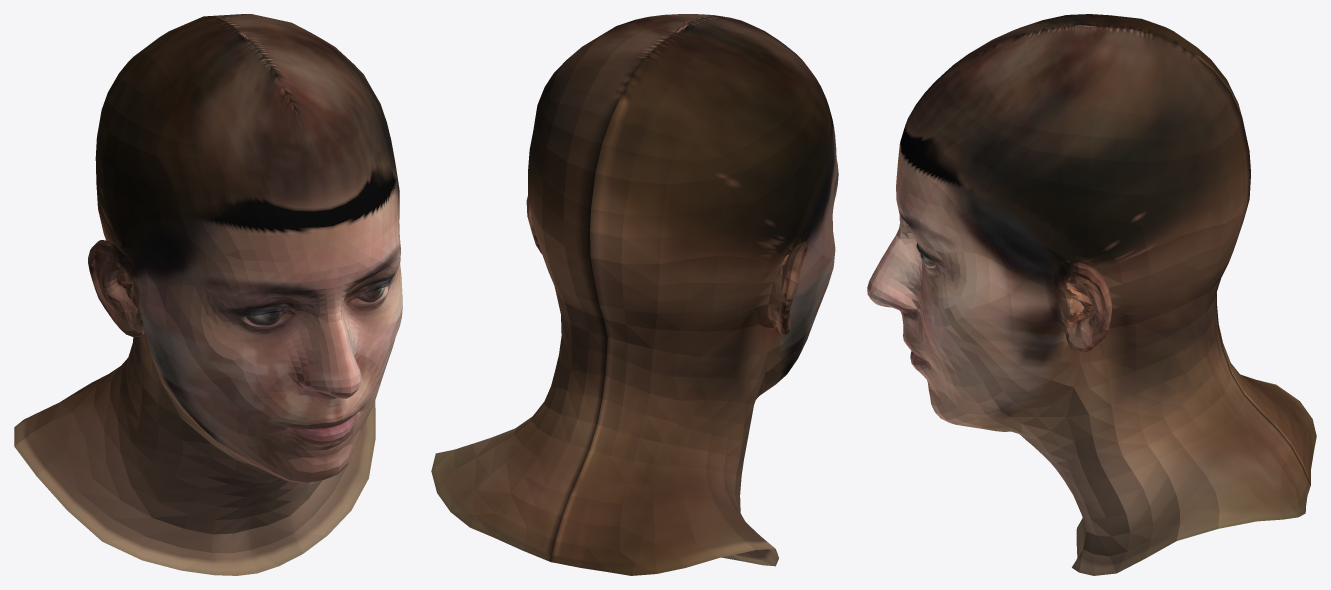
File: face_video_frame0159.obj
3 renders of one model, left to right at view 1: azimuth 30°, elevation 25°; view 2: azimuth 150°, elevation 25°; view 3: azimuth 270°, elevation 25°, orthographic.
Size of the model in its own units: 0.2128 by 0.3277 by 0.2526.
Materials: 1 (1 with a texture image).
